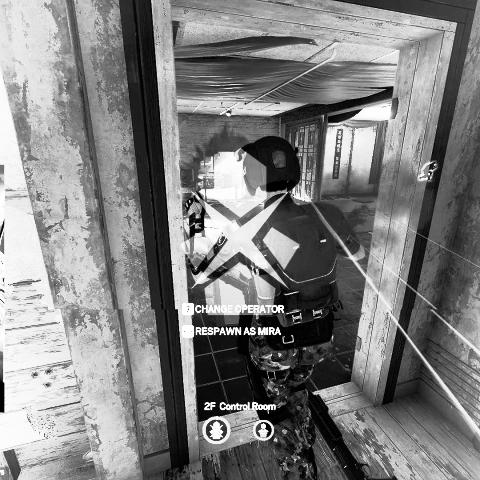Character: (183, 134, 368, 480)
Head: (236, 135, 302, 205)
